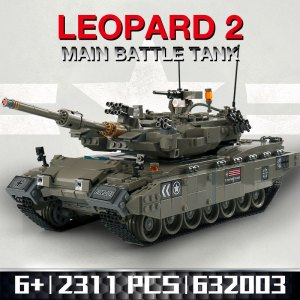Battle Tank: (1, 85, 299, 250)
